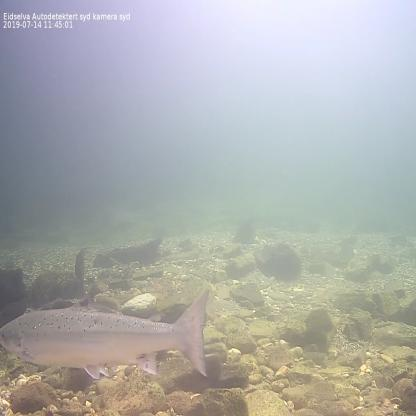salmon: (0, 284, 210, 379)
